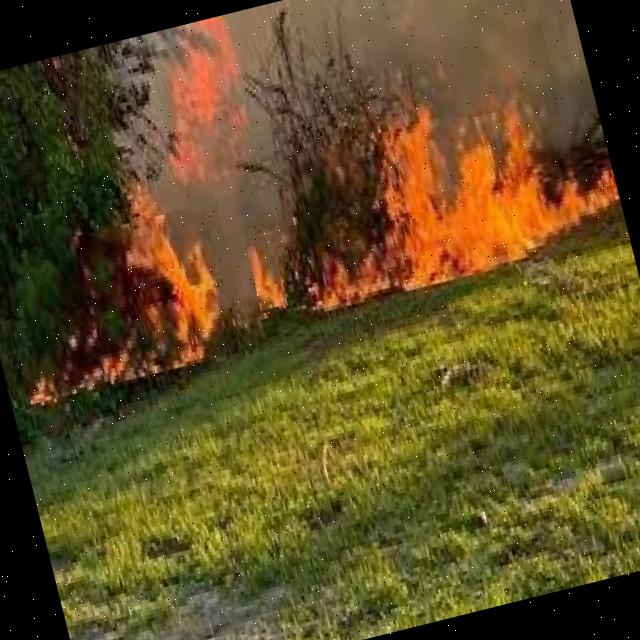fire: (286, 83, 624, 313), (0, 206, 240, 405), (134, 15, 262, 193), (244, 238, 286, 314)
